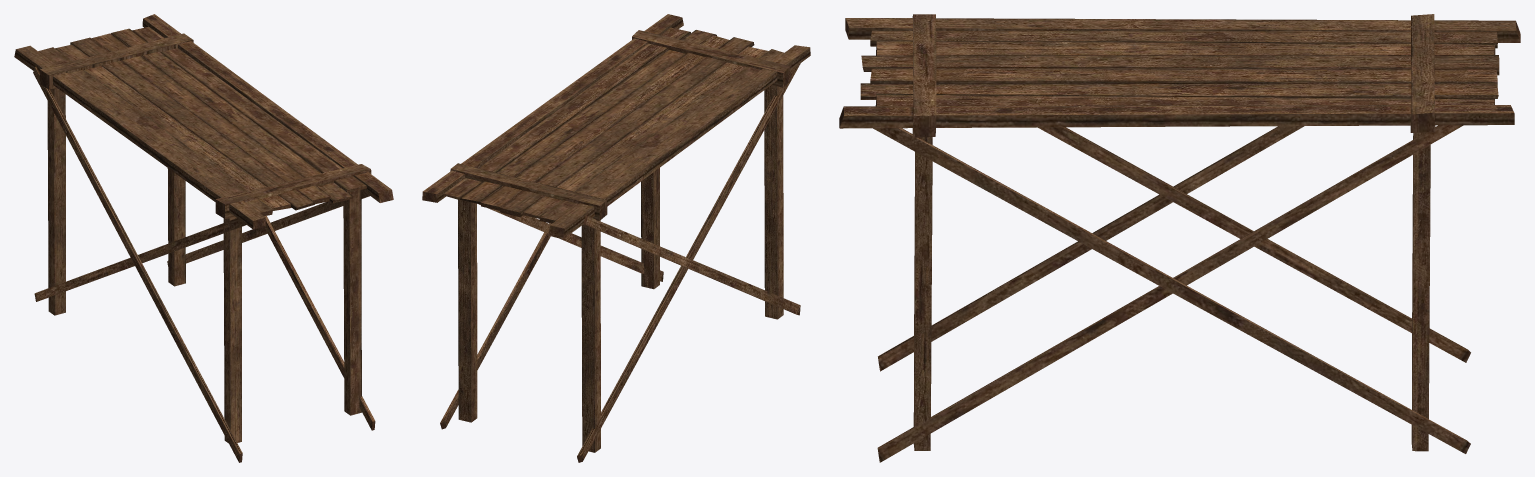
The model's file is o_mdl_env_platformwoodhighthin-transformed.glb.
The picture shows the model from 3 angles, left to right: view 1: azimuth 30°, elevation 25°; view 2: azimuth 150°, elevation 25°; view 3: azimuth 270°, elevation 25°; orthographic projection. The views are drawn at different scales.
Parts seen in each view (by area): view 1: default; view 2: default; view 3: default.
Part boxes in pixels (x1,y1,x2,y2): default: [14, 14, 393, 462]; default: [422, 14, 810, 462]; default: [839, 14, 1520, 462].
Bounding box in the file's own units: 4.95 × 8.04 × 14.
1 material, 1 textured.
